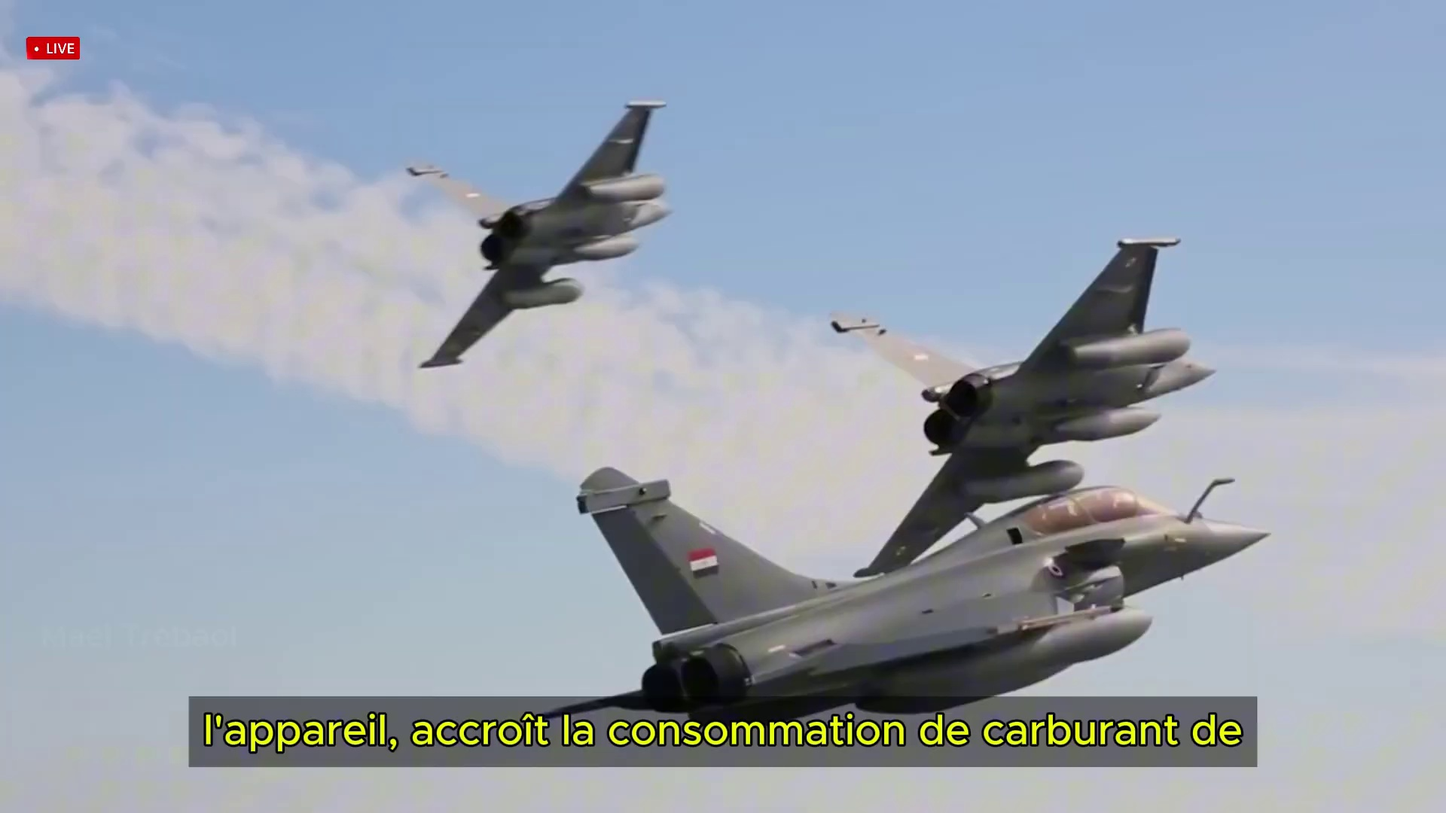Rafale: (545, 466, 1261, 728), (825, 237, 1214, 575), (410, 98, 671, 365)
